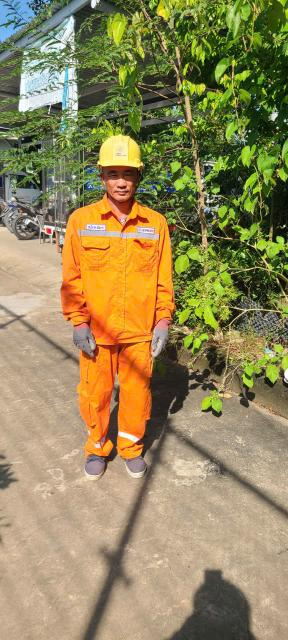gloves: (145, 318, 184, 363), (67, 323, 103, 354)
helmet: (93, 136, 156, 170)
shoes: (118, 449, 159, 485), (75, 445, 108, 482)
